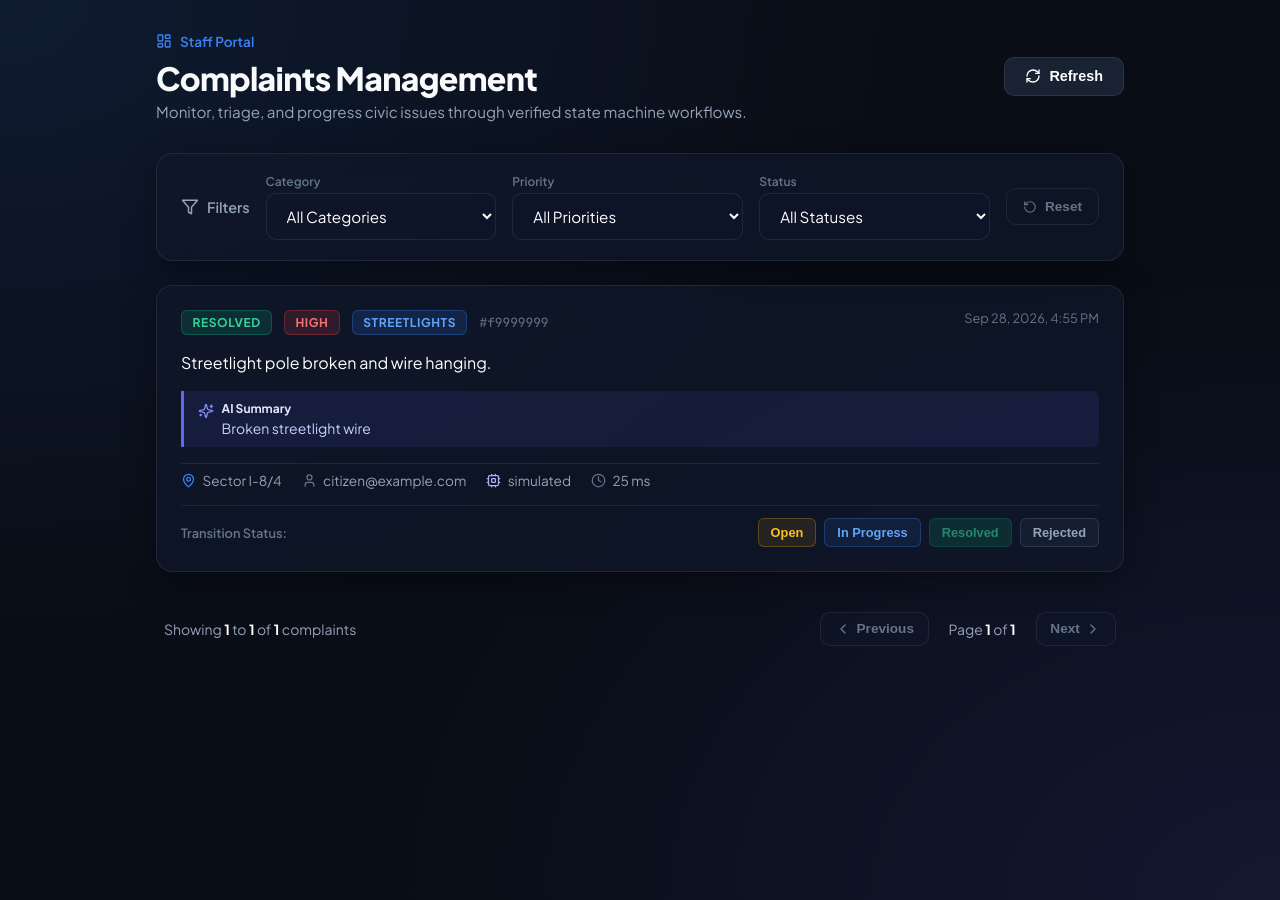
Scenario: DashboardPage 409 Conflict Handling › displays the exact verbatim 409 error message from server when status transition fails
Expected: the text "Streetlight pole broken and wire hanging." is shown, [181, 352, 491, 372]
Click the button with aria-label "set in progress". click: x=872, y=533
box: [824, 518, 921, 547]
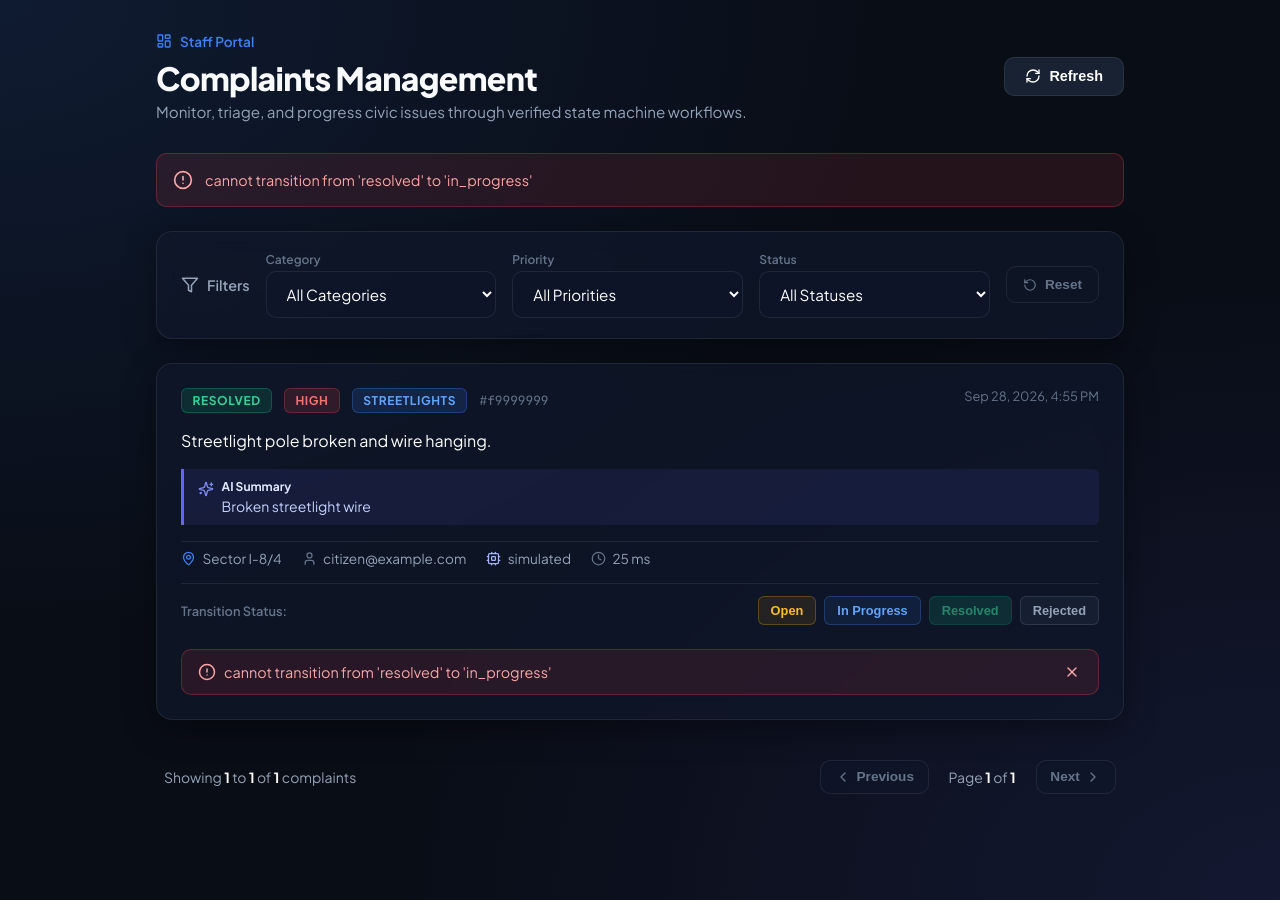
Expected: the 1st text "cannot transition from 'resolved' to 'in_progress'" is shown, [205, 170, 532, 188]
